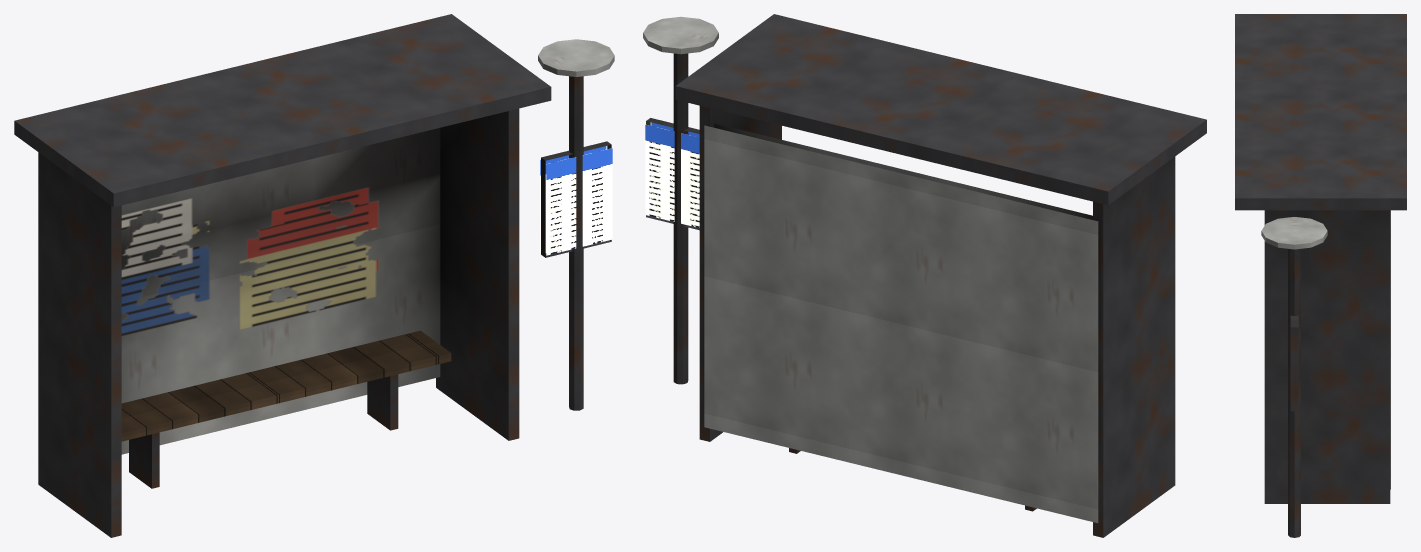
File: bus_stop.glb
3 renders of one model, left to right at view 1: azimuth 30°, elevation 25°; view 2: azimuth 150°, elevation 25°; view 3: azimuth 270°, elevation 25°, orthographic. The views are drawn at different scales.
Parts seen in each view (by area): view 1: bus_stop; view 2: bus_stop; view 3: bus_stop.
Part boxes in pixels (x1,y1,x2,y2): bus_stop: [14, 14, 614, 537]; bus_stop: [643, 14, 1206, 537]; bus_stop: [1235, 14, 1406, 537].
Bounding box in the file's own units: 4 × 2.6 × 1.3.
Materials: 5 (5 with a texture image).
